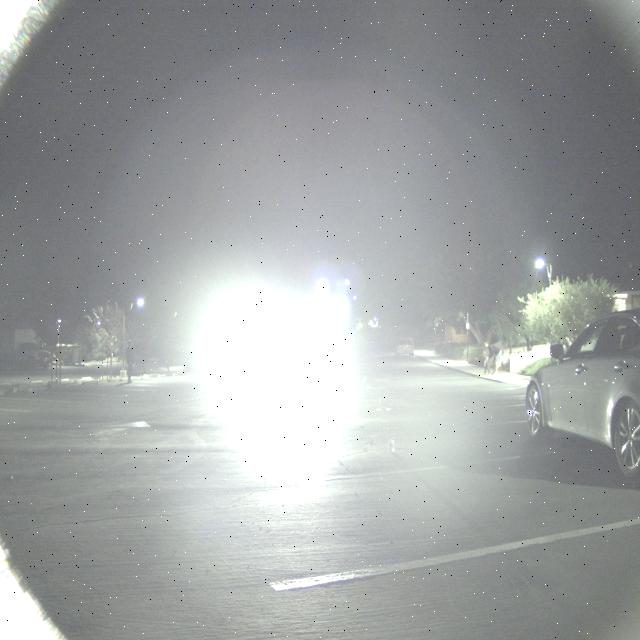humans: (481, 340, 503, 378), (126, 336, 135, 384)
